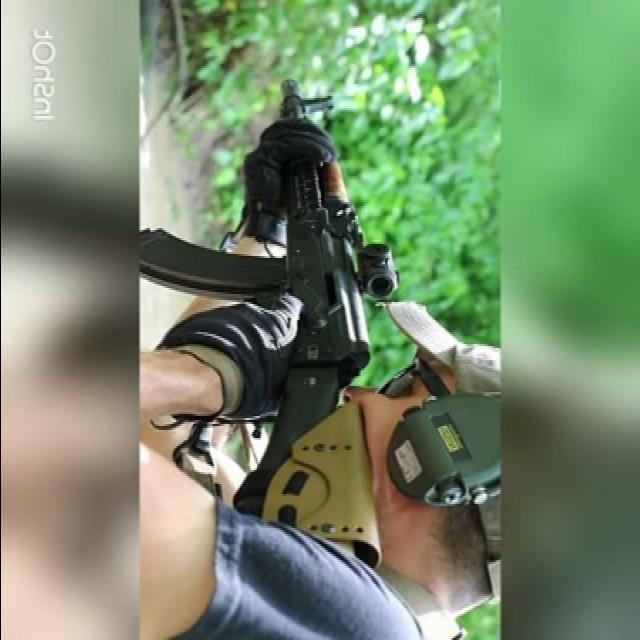rifle: (144, 75, 394, 573)
